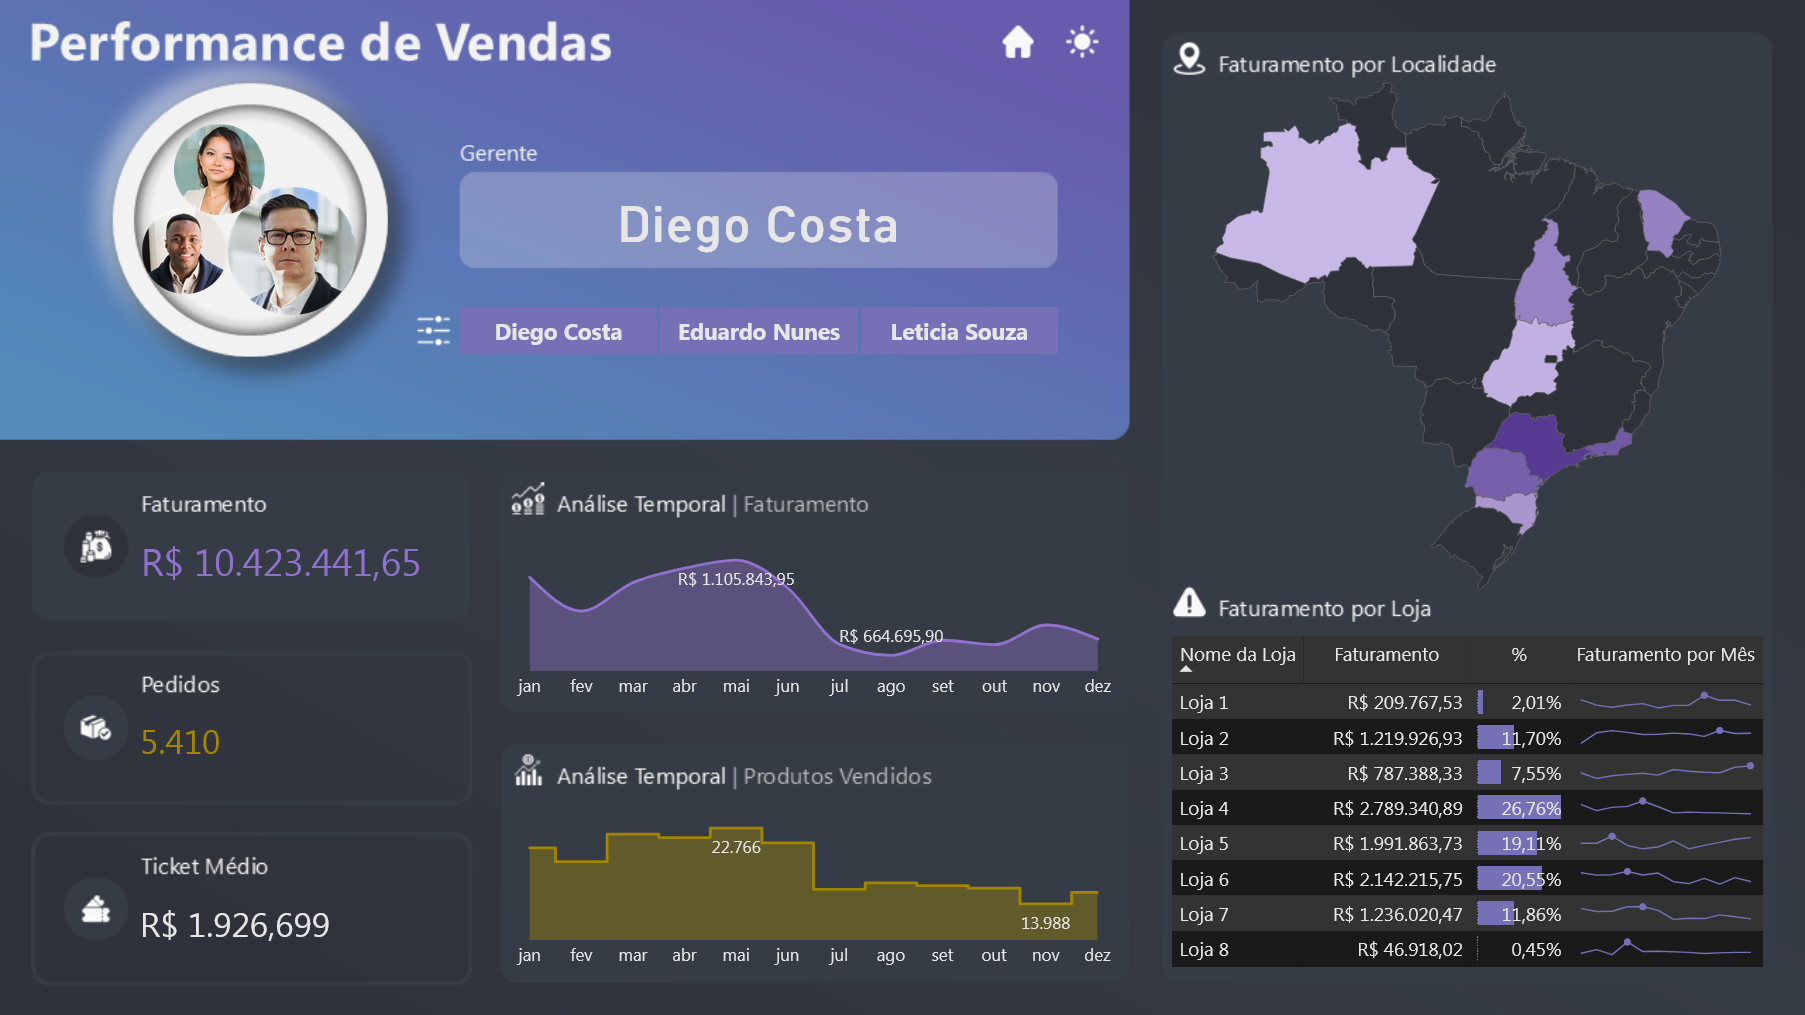

Layout of this report page (visuals, bound fields, positions):
{"tool":"powerbi","page":{"name":"Performance de Vendas Dark","canvas":[1280,720],"ordinal":1},"visuals":[{"type":"cardVisual","fields":{"Data":["fPedidos.Faturamento"]},"box":[82.9,350.2,250,86.5],"z":0},{"type":"cardVisual","fields":{"Data":["fPedidos.Quantidade de Pedidos"]},"box":[82,478,250,86],"z":1000},{"type":"cardVisual","fields":{"Data":["fPedidos.Ticket Médio"]},"box":[82,608,250,86],"z":2000},{"type":"slicer","fields":{"Values":["lojas.Gerente"]},"box":[299.9,210.8,474.6,47.6],"z":3000},{"type":"areaChart","fields":{"Category":["calendario.mes"],"Y":["fPedidos.Faturamento"]},"box":[356.1,368.6,442.4,136],"z":4000},{"type":"card","fields":{"Values":["Min(lojas.Gerente)"]},"box":[326,122,424,68],"z":6000},{"type":"tableEx","fields":{"Values":["lojas.nome_loja","pedidos.Faturamento","Divide(pedidos.Faturamento, ScopedEval(pedidos.Faturamento, []))","SparklineData(pedidos.Faturamento_[calendario.mes])"]},"box":[826,446,430,254],"z":7000},{"type":"ImageGrid_FC5183B9_926C_45E0_B5F7_0CE9EAF1DA9B","fields":{"ImageURLHQ":["lojas.Imagem"]},"box":[89,56.5,176.4,198.5],"z":8000},{"type":"shapeMap","fields":{"Category":["dUnidadesFederativas.Estado"],"Value":["fPedidos.Faturamento"]},"box":[826,38,430,400],"z":8001},{"type":"areaChart","fields":{"Category":["calendario.mes"],"Y":["fPedidos.Quntidade de Produtos"]},"box":[356.4,560,442,136],"z":8002},{"type":"actionButton","box":[702,10.6,40,40],"z":8003},{"type":"actionButton","box":[748,9.7,39.7,40.6],"z":8004}]}

Visuals, with their boxes in screenshot pixels (x1, y1, x2, y2), scaled from the page's 1280x720 canvas onto the 1805x1015 screenshot:
cardVisual - fPedidos.Faturamento: 117,494,469,616
cardVisual - fPedidos.Quantidade de Pedidos: 116,674,468,795
cardVisual - fPedidos.Ticket Médio: 116,857,468,978
slicer - lojas.Gerente: 423,297,1092,364
areaChart - calendario.mes x fPedidos.Faturamento: 502,520,1126,711
card - Min(lojas.Gerente): 460,172,1058,268
tableEx - lojas.nome_loja x pedidos.Faturamento: 1165,629,1771,987
ImageGrid_FC5183B9_926C_45E0_B5F7_0CE9EAF1DA9B - lojas.Imagem: 126,80,374,359
shapeMap - dUnidadesFederativas.Estado x fPedidos.Faturamento: 1165,54,1771,617
areaChart - calendario.mes x fPedidos.Quntidade de Produtos: 503,789,1126,981
actionButton: 990,15,1046,71
actionButton: 1055,14,1111,71
